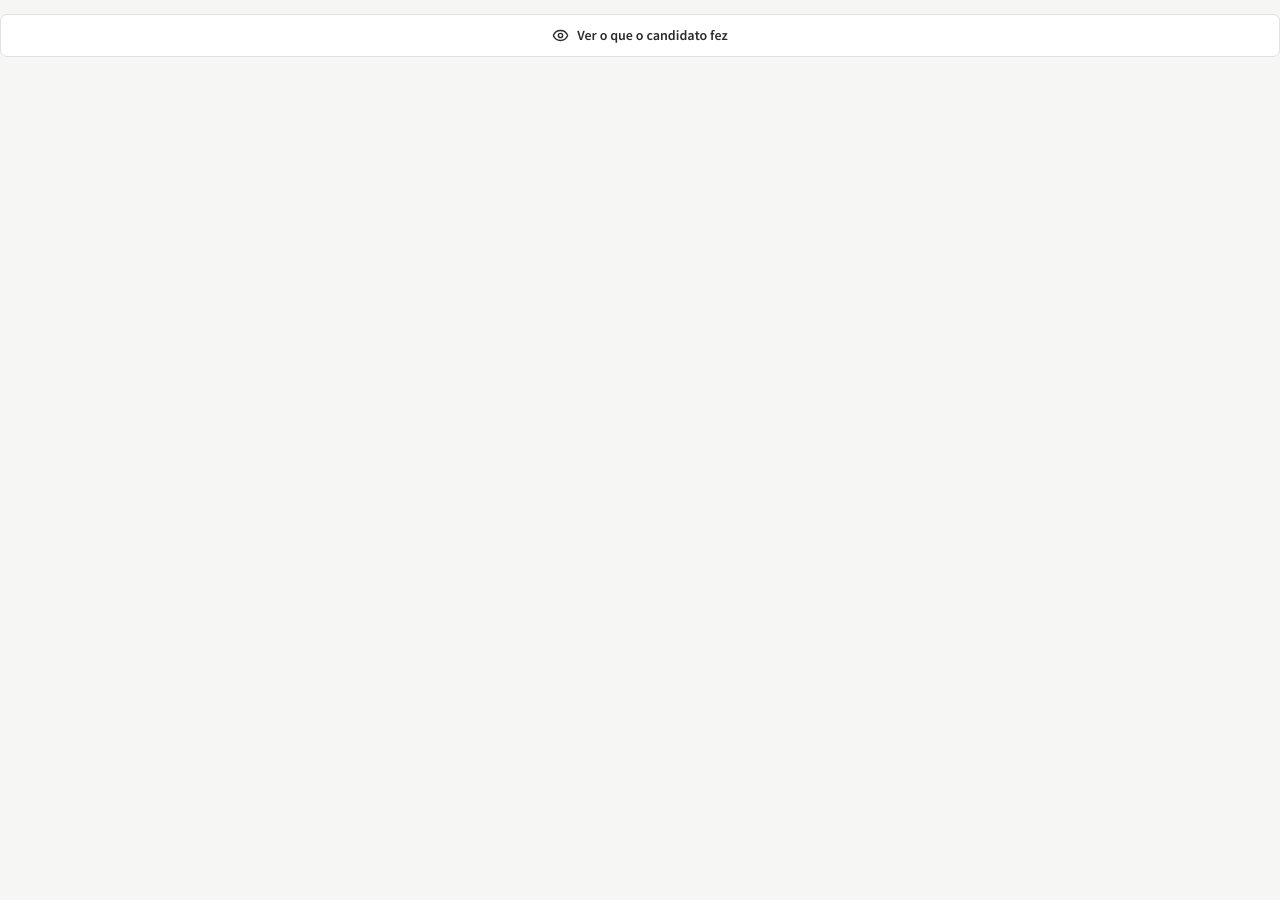
shows incomplete work as pending and respects restricted personal answers
Click the button "Ver o que o candidato fez". click: [640, 36]
box: [0,14,1279,57]
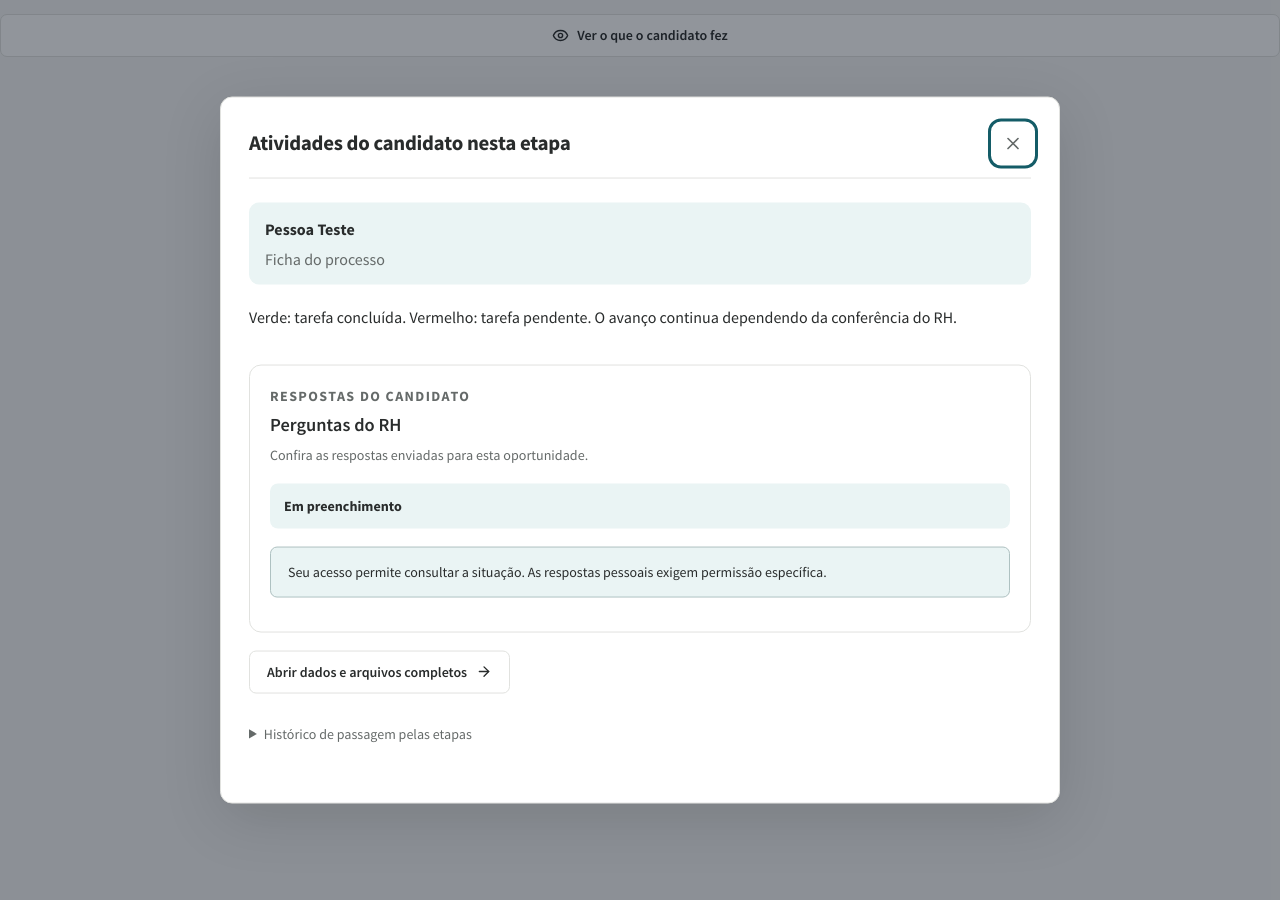
Expected: the text "Em preenchimento" is shown, [284,495,402,516]
Expected: the text "As respostas pessoais exigem permissão específica" is shown, [288,562,827,580]
